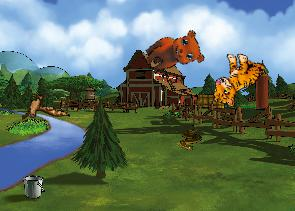bear: (139, 22, 209, 87)
eagle: (14, 83, 70, 133)
tiger: (209, 48, 267, 112)
